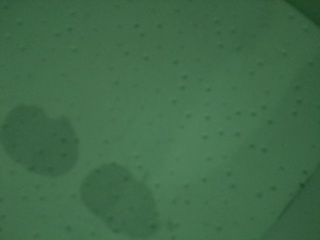Water_detected: (14, 114, 150, 226)
